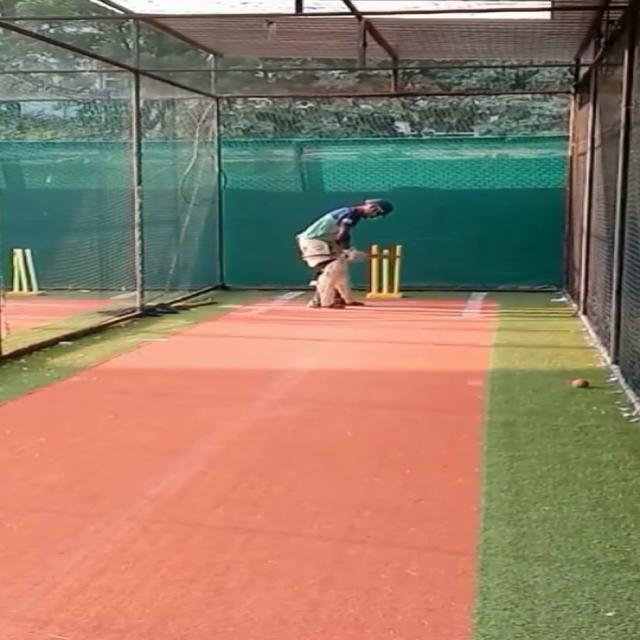ball: (570, 377, 594, 389)
stump: (367, 242, 409, 299)
